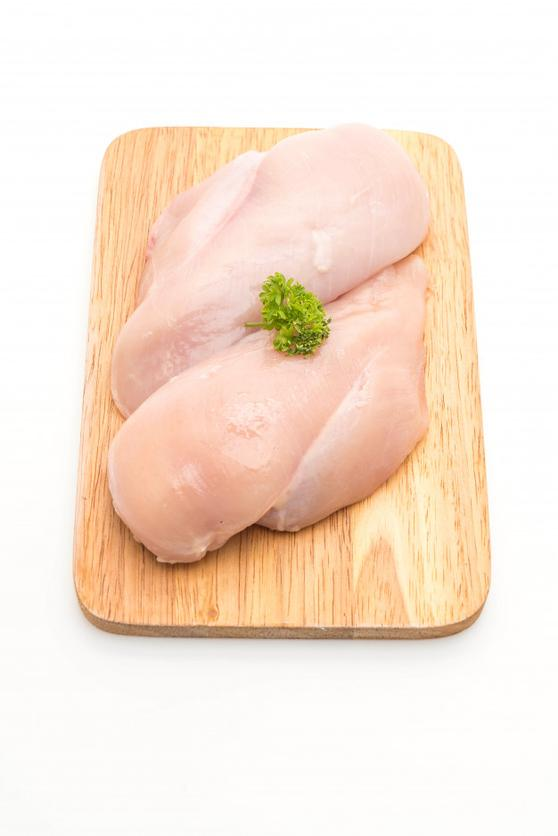chicken_fillet: (108, 257, 431, 564), (111, 126, 434, 414)
